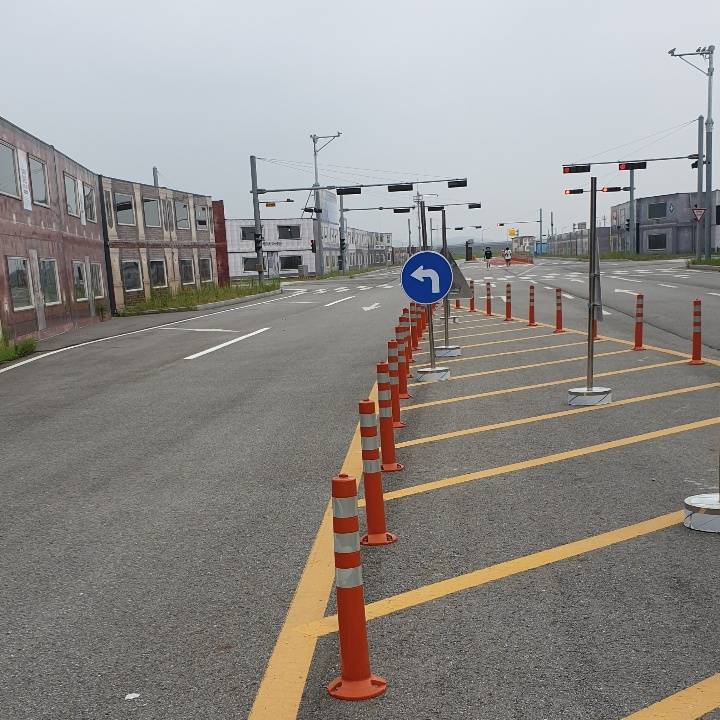left: (407, 259, 443, 298)
